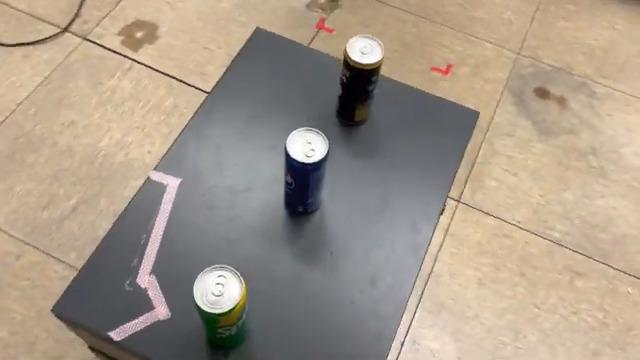OranSoda: (332, 32, 388, 130)
Pepsi: (280, 122, 336, 224)
Sprite: (188, 261, 250, 355)
